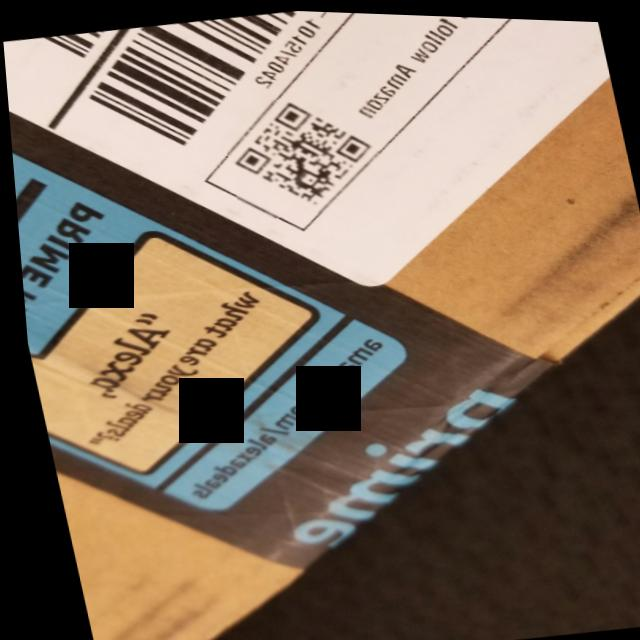QR_CODE: (214, 83, 390, 224)
